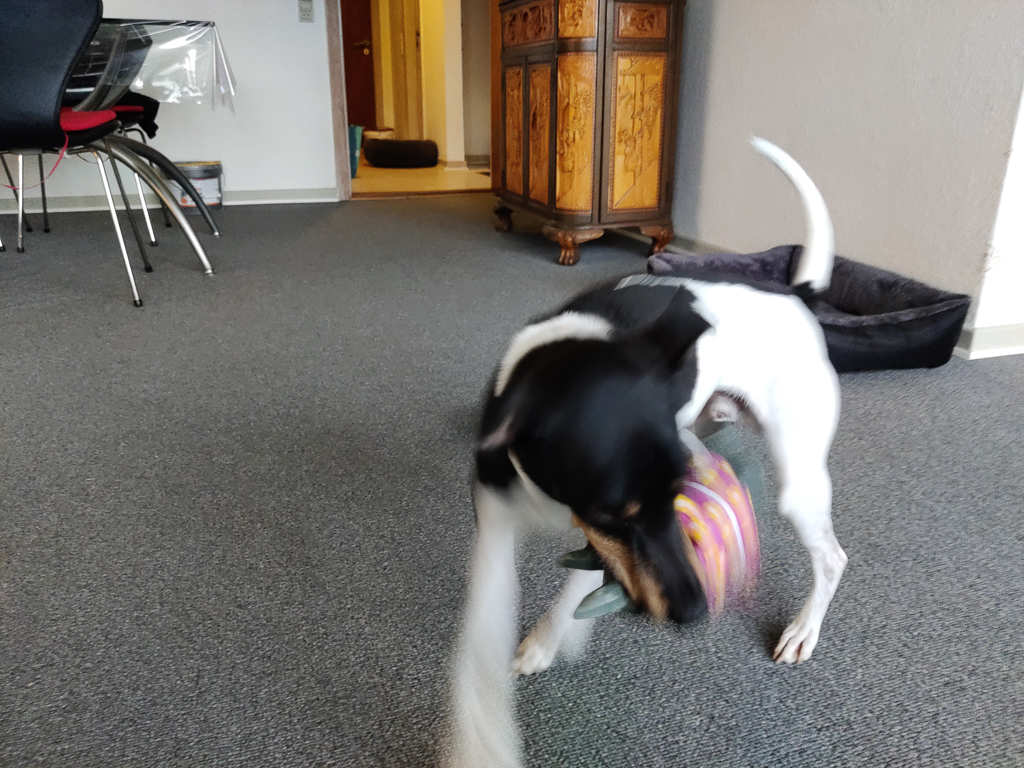Dog: (430, 124, 910, 768)
Humanoid: (525, 439, 785, 644)
